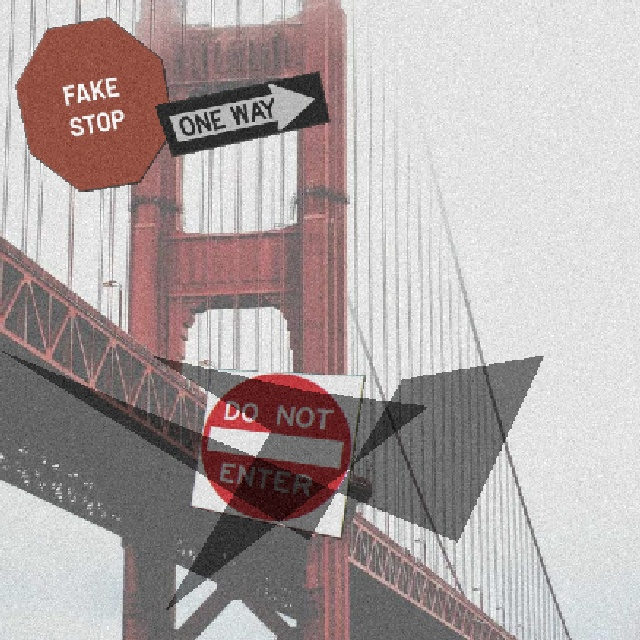DO_NOT_ENTER: (188, 367, 364, 538)
FAKE_STOP: (13, 15, 173, 191)
ONE_WAY_ right: (153, 69, 329, 156)
